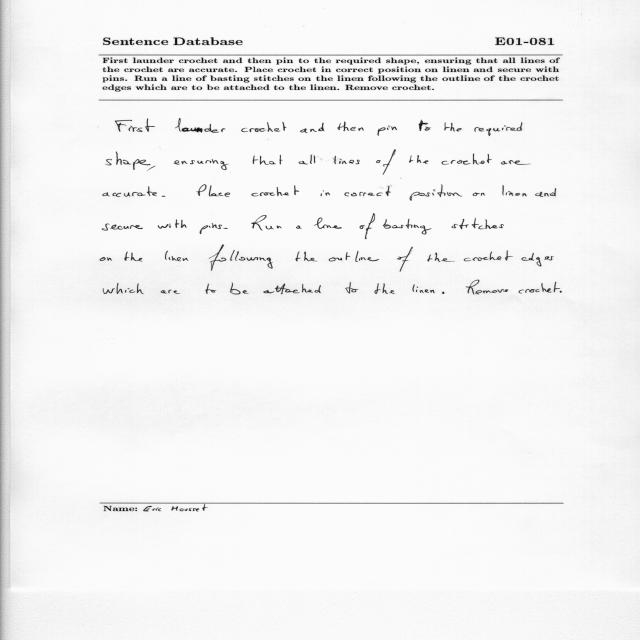word: (209, 245, 273, 271), (106, 151, 155, 171), (410, 184, 463, 201), (383, 219, 431, 235), (175, 118, 226, 133), (475, 122, 523, 136), (263, 284, 321, 295), (466, 280, 508, 295), (103, 186, 157, 197), (451, 218, 504, 229), (115, 118, 155, 132), (442, 154, 492, 165), (329, 251, 379, 262), (464, 251, 513, 262), (182, 159, 229, 170), (252, 186, 299, 197), (518, 282, 560, 294), (376, 150, 396, 175), (251, 215, 282, 231), (344, 186, 391, 196), (103, 283, 144, 294), (241, 122, 286, 132), (521, 253, 554, 266), (197, 185, 231, 197), (397, 247, 413, 272), (360, 214, 375, 239), (314, 217, 342, 229), (253, 155, 283, 165), (502, 185, 527, 197), (102, 224, 143, 231), (158, 219, 186, 229), (428, 252, 455, 262), (338, 122, 364, 132), (300, 123, 325, 133), (200, 223, 222, 234), (296, 251, 318, 262), (165, 251, 188, 261), (230, 283, 249, 295), (375, 283, 395, 294), (334, 156, 360, 164), (377, 126, 397, 136), (413, 284, 435, 293), (124, 252, 143, 262), (535, 188, 556, 197), (409, 155, 429, 164), (444, 123, 462, 132), (299, 155, 315, 165), (345, 282, 359, 293), (501, 160, 531, 165), (419, 120, 431, 131), (206, 283, 217, 294), (161, 290, 180, 294), (321, 191, 330, 197), (100, 257, 112, 261), (473, 193, 485, 196), (174, 160, 180, 165), (296, 225, 302, 229), (559, 291, 562, 293), (223, 228, 228, 229), (162, 196, 166, 197), (442, 292, 444, 294)
